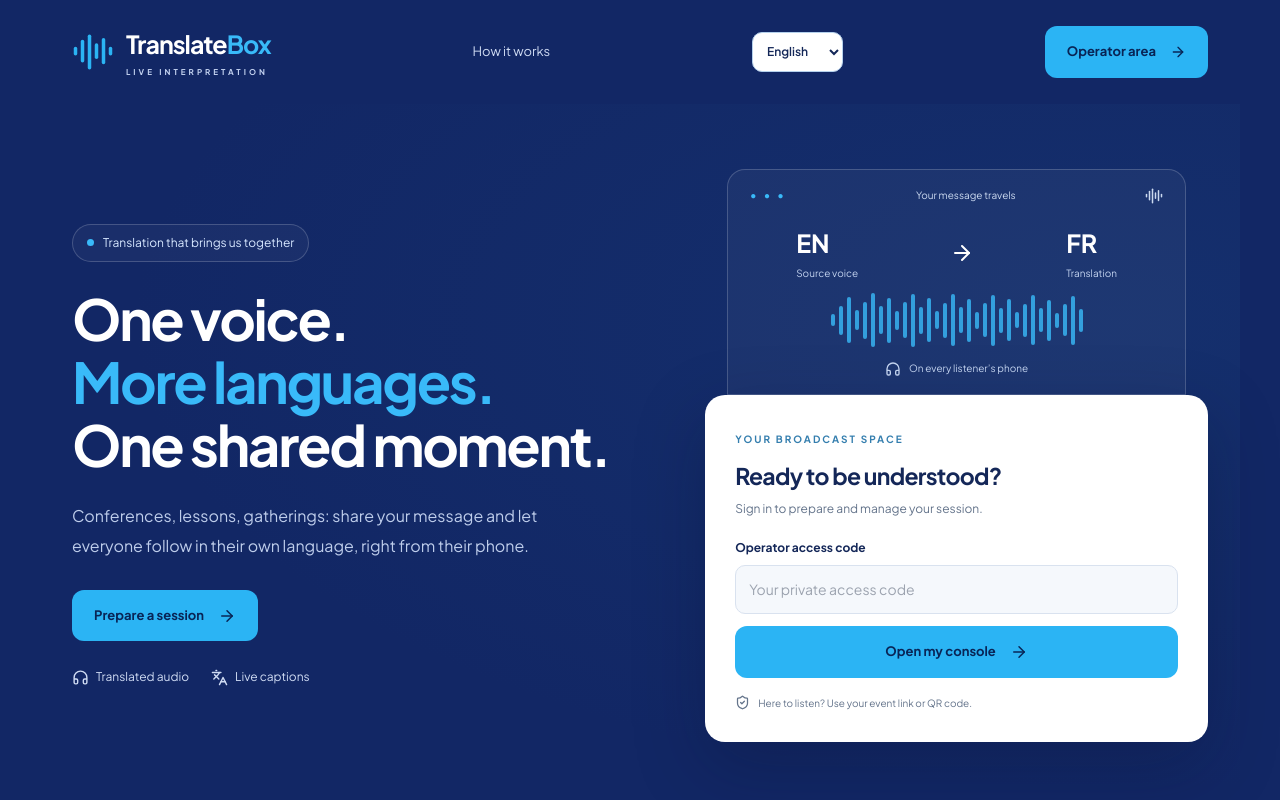
Test: English default, French selection and saved preference preserve access-code input
The width and height of the screenshot is (1280, 800).
Later steps or results of the test are not shown.
Expected: the button "Open my console" is shown, [735,626,1178,678]
Type "private-test-code" into the password field labelled "Operator access code".
click(957, 590); type("private-test-code")  # box [735,565,1178,614]
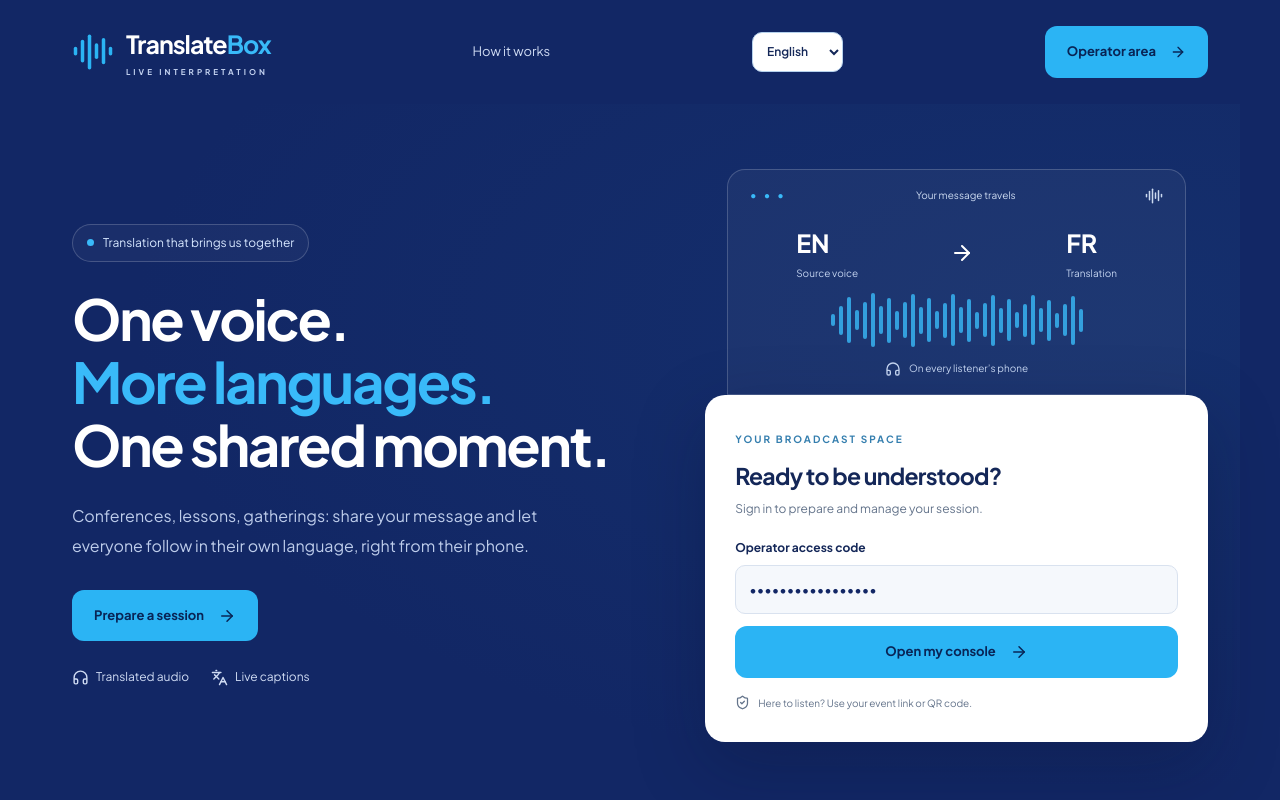
Select "Français" in the dropdown named "Interface language" at (797, 52), box [752,32,843,72]
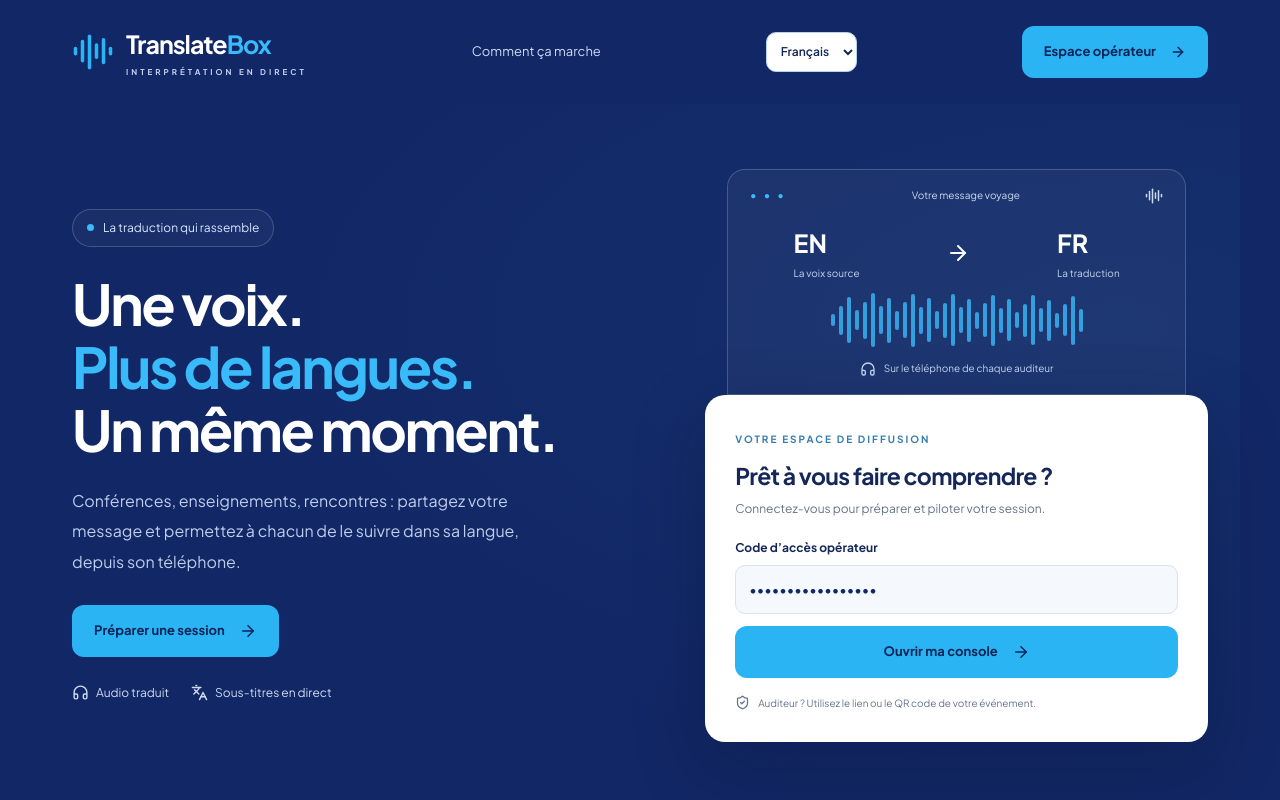
Now the button "Ouvrir ma console" is shown, box [735,626,1178,678]
